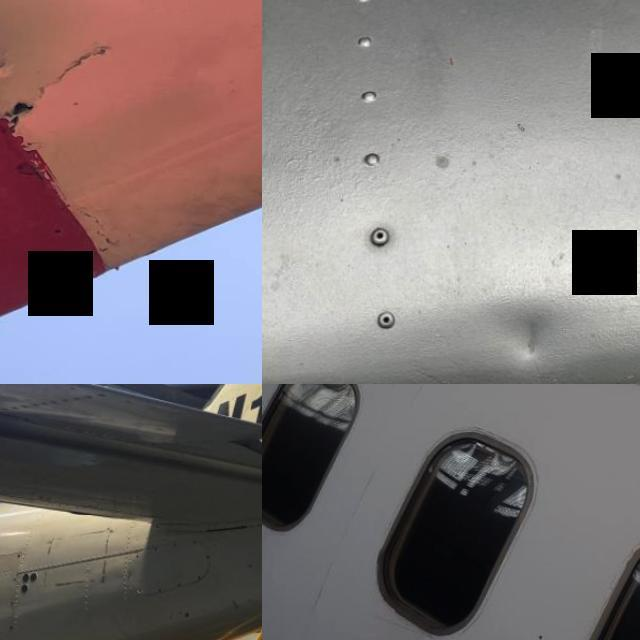Crack: (0, 34, 123, 138), (0, 53, 18, 85)
Dent: (478, 274, 596, 384)
Missing_Fastener: (197, 540, 203, 546), (163, 588, 169, 591), (202, 576, 208, 579), (144, 590, 148, 592)
